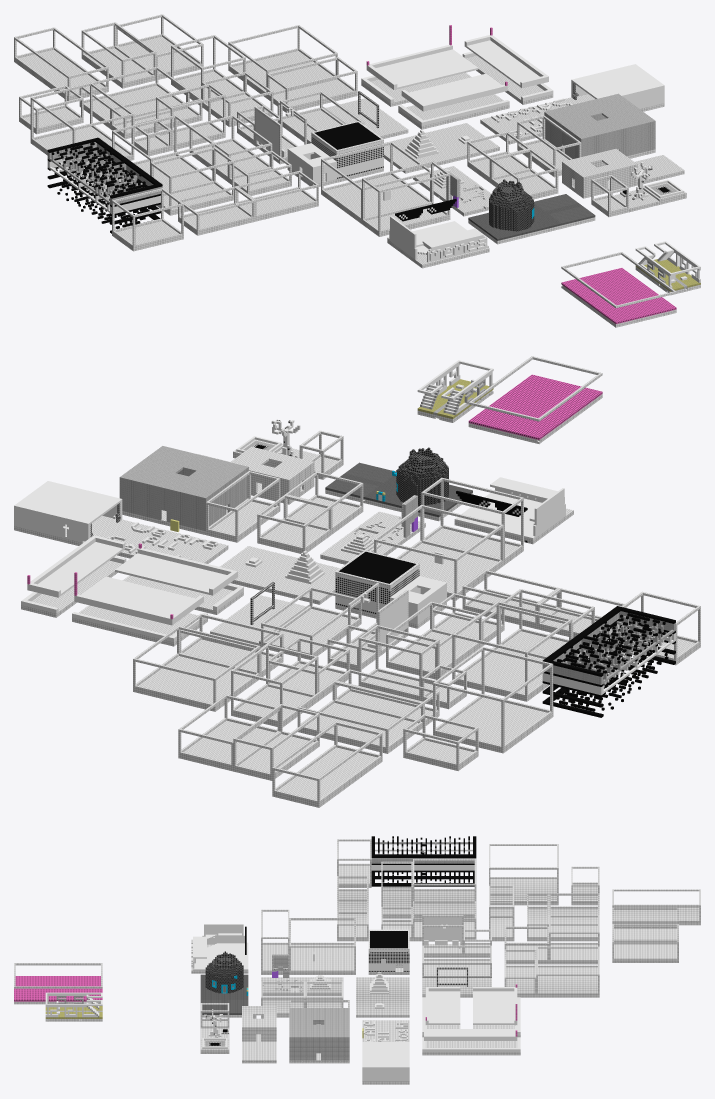
File: Memes-v2.glb
The picture shows the model from 3 angles, top to bottom: view 1: azimuth 30°, elevation 25°; view 2: azimuth 150°, elevation 25°; view 3: azimuth 270°, elevation 25°; orthographic projection. The views are drawn at different scales.
Parts seen in each view (by area): view 1: solid-voxels_39.012; view 2: solid-voxels_39.012; view 3: solid-voxels_39.012.
Part boxes in pixels (x1,y1,x2,y2): solid-voxels_39.012: (14, 14, 700, 327); solid-voxels_39.012: (14, 356, 700, 807); solid-voxels_39.012: (14, 836, 700, 1084).
Bounding box in the file's own units: 162 × 12.99 × 217.
Materials: 1 (1 with a texture image).
